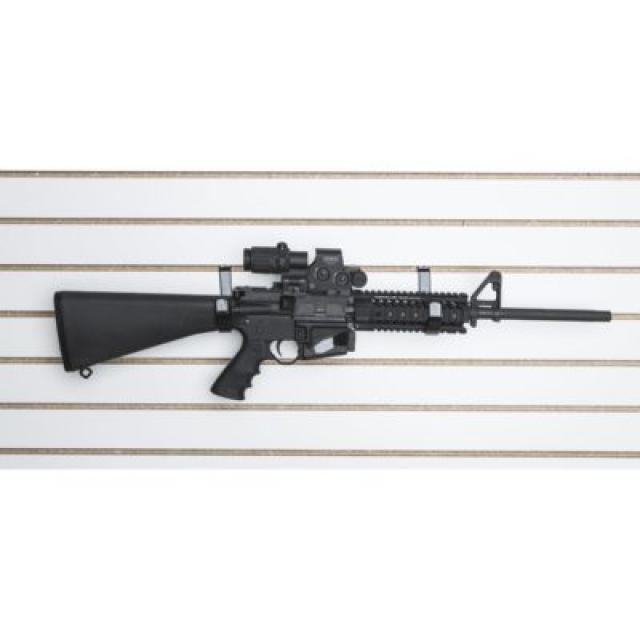Rifle: (54, 246, 610, 402)
